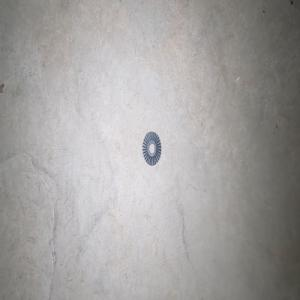Washer: (142, 131, 161, 165)
